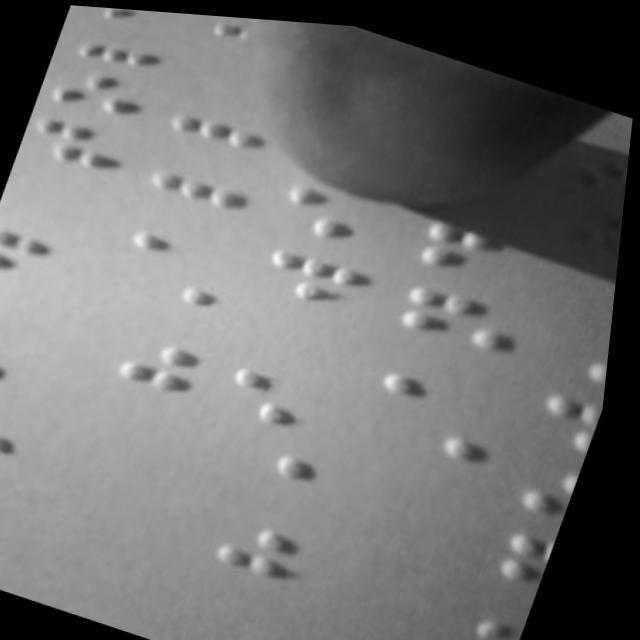braiile: (224, 344, 360, 437), (399, 265, 533, 357), (413, 199, 548, 290), (383, 329, 512, 418), (275, 169, 402, 255), (168, 66, 285, 157), (261, 229, 382, 316), (127, 188, 244, 274), (19, 99, 135, 182), (149, 133, 263, 215), (38, 48, 154, 125), (0, 208, 99, 295), (62, 4, 168, 74), (0, 277, 69, 357), (0, 340, 56, 423)
